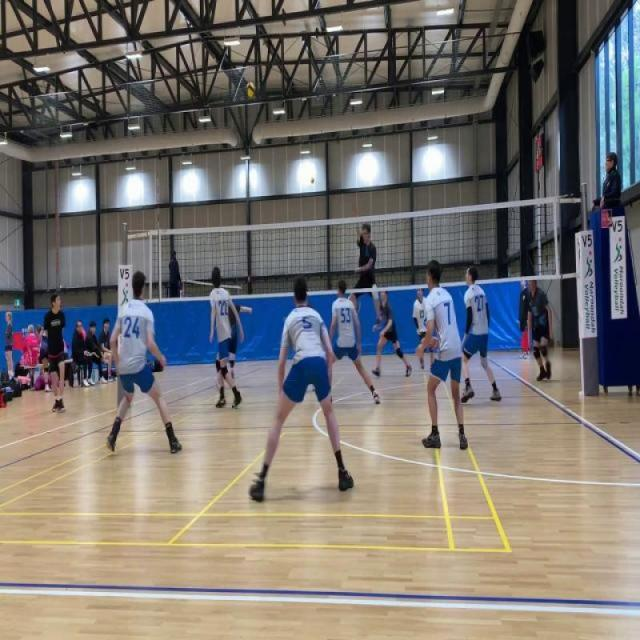volleyball: (245, 81, 256, 99), (310, 177, 314, 184)
